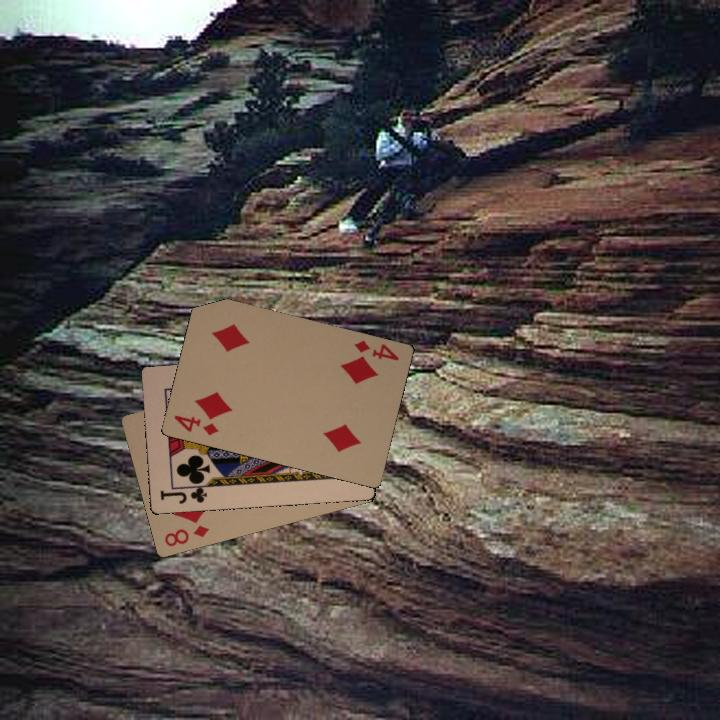4d: (170, 411, 221, 438), (350, 336, 401, 363)
8d: (160, 521, 212, 549)
Jc: (156, 480, 210, 506)
